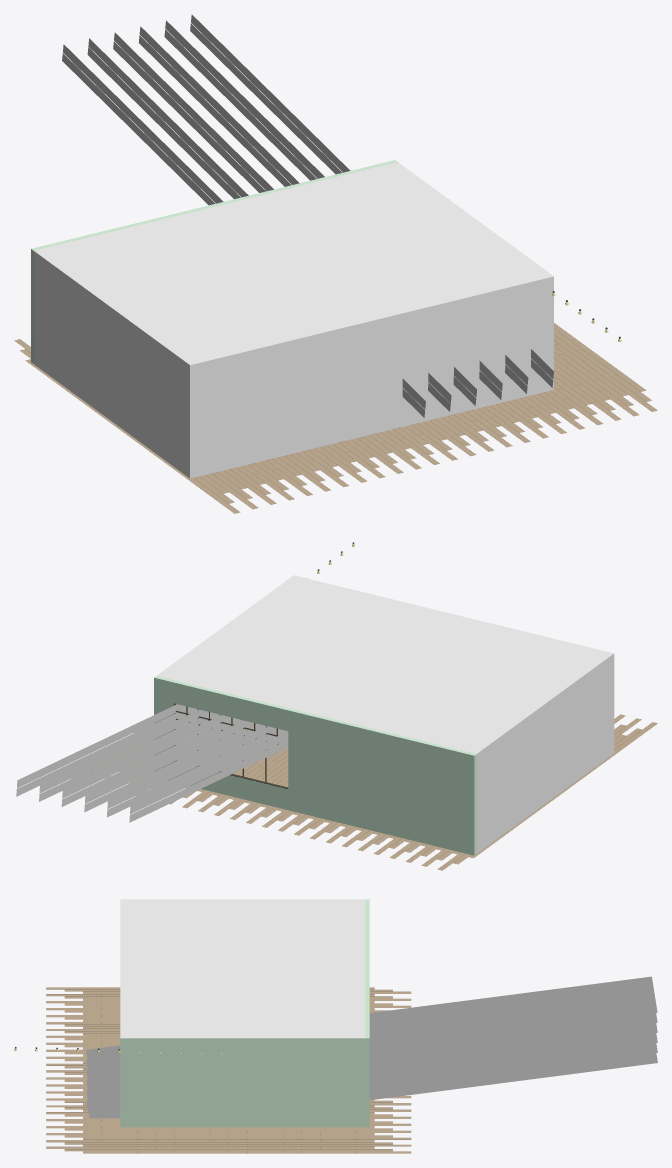
Rendered from house.glb.
3 views of the same model, one above another, from view 1: azimuth 30°, elevation 25°; view 2: azimuth 150°, elevation 25°; view 3: azimuth 270°, elevation 25° (orthographic). The views are drawn at different scales.
Visible parts, largest first — view 1: house_ceiling, god_rays_top, floor, house_walls; view 2: house_ceiling, house_walls, god_rays_top, floor, house_window_structure; view 3: house_ceiling, god_rays_bottom, house_walls, floor.
Boxes of the visible parts, left/top/right/bottom form: house_ceiling: left=34, top=162, right=553, bottom=478; god_rays_top: left=62, top=14, right=553, bottom=417; floor: left=14, top=323, right=657, bottom=513; house_walls: left=31, top=160, right=397, bottom=363; house_ceiling: left=156, top=575, right=614, bottom=853; house_walls: left=154, top=676, right=476, bottom=855; god_rays_top: left=16, top=704, right=288, bottom=822; floor: left=71, top=714, right=657, bottom=870; house_window_structure: left=174, top=703, right=288, bottom=789; house_ceiling: left=120, top=899, right=365, bottom=1038; god_rays_bottom: left=86, top=976, right=657, bottom=1118; house_walls: left=120, top=899, right=369, bottom=1127; floor: left=46, top=987, right=411, bottom=1153.
Size of the model in its own units: 96.86 by 33.68 by 158.
